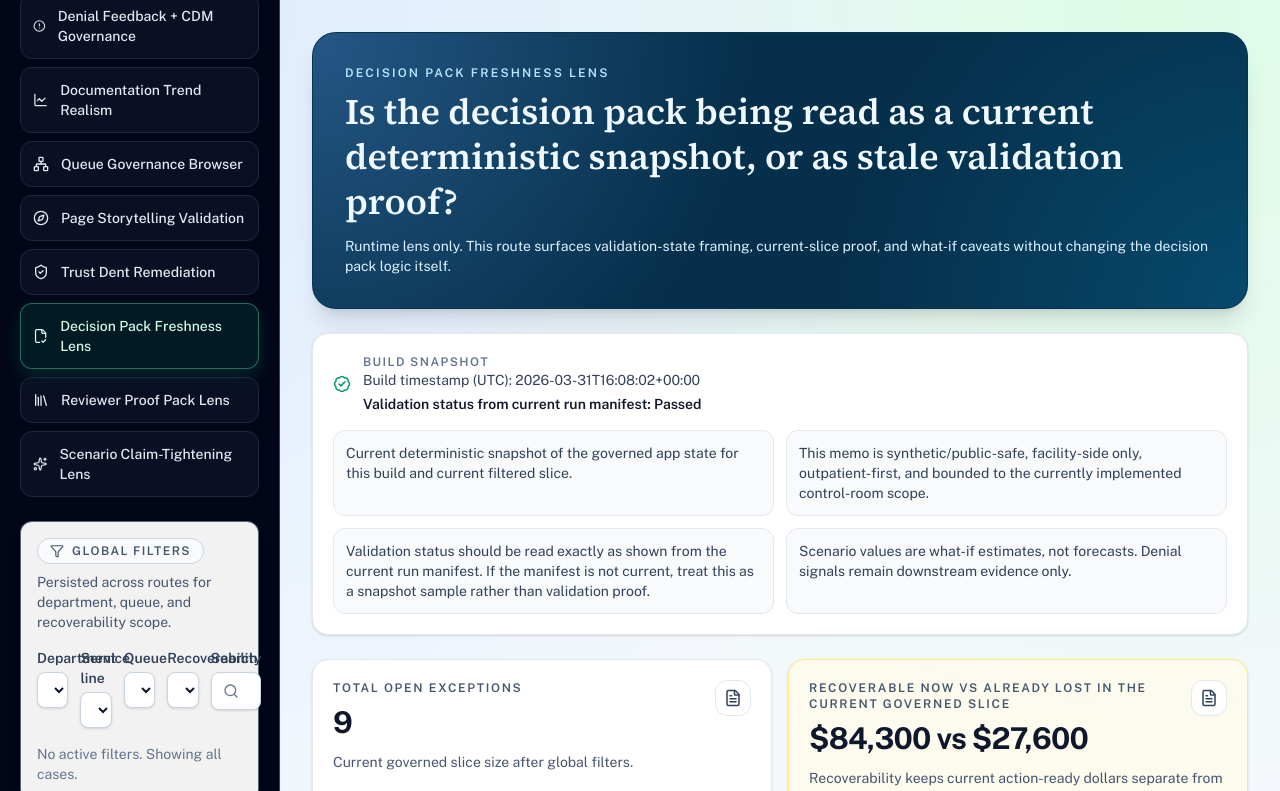
Test case: Route persistence and operational slices › renders Reviewer Proof Pack Lens with core-first proof inventory
(page scrolled)
Click the link "Reviewer Proof Pack Lens" at coordinates (140, 400), box [20,377,259,423]
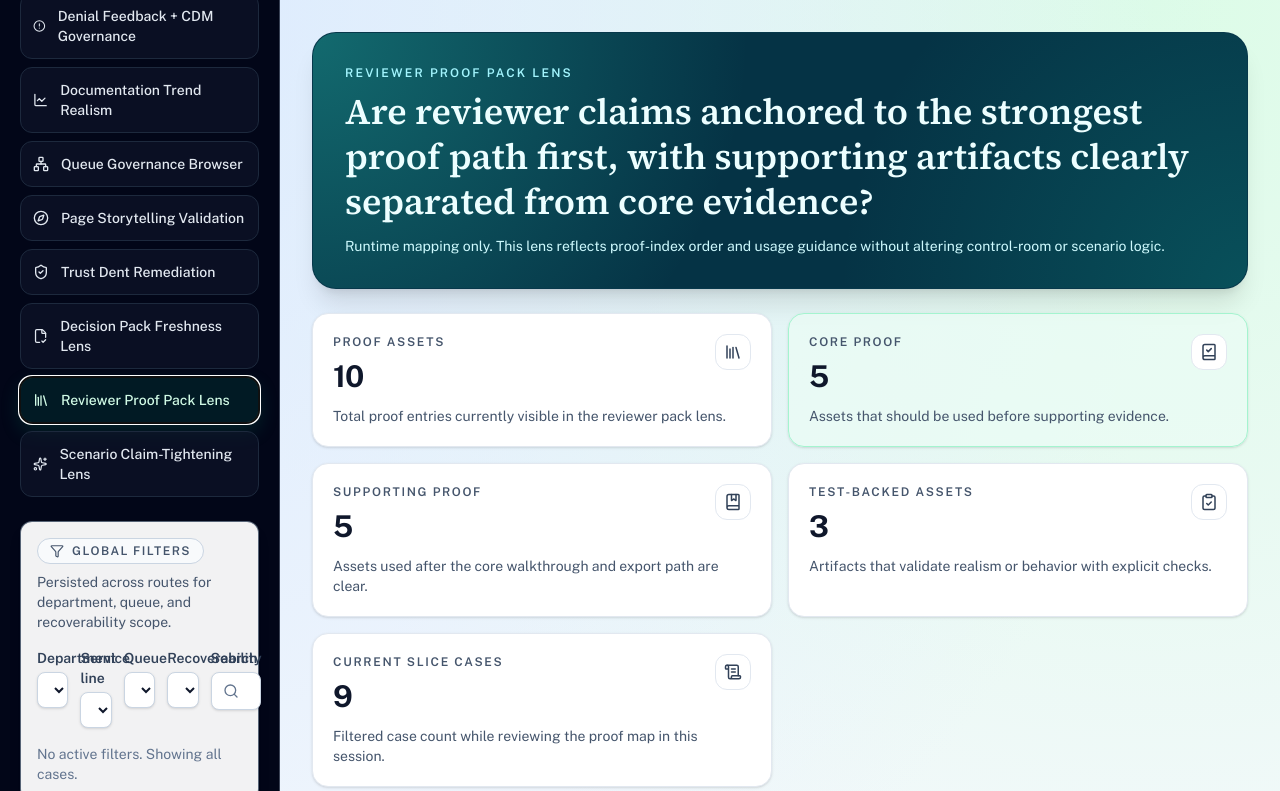
expect the heading "are reviewer claims anchored to the strongest proof path first, with supporting artifacts clearly separated from core ev" is shown: met, box [345,87,1189,226]
